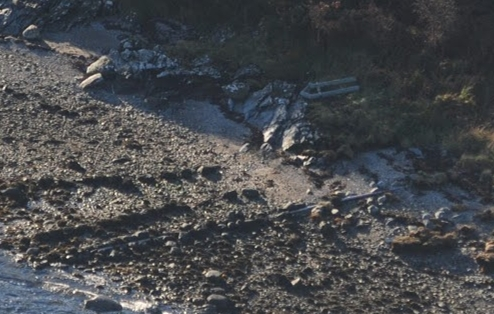cuboid: (296, 70, 369, 106)
tube: (339, 187, 388, 205), (280, 202, 320, 218)
